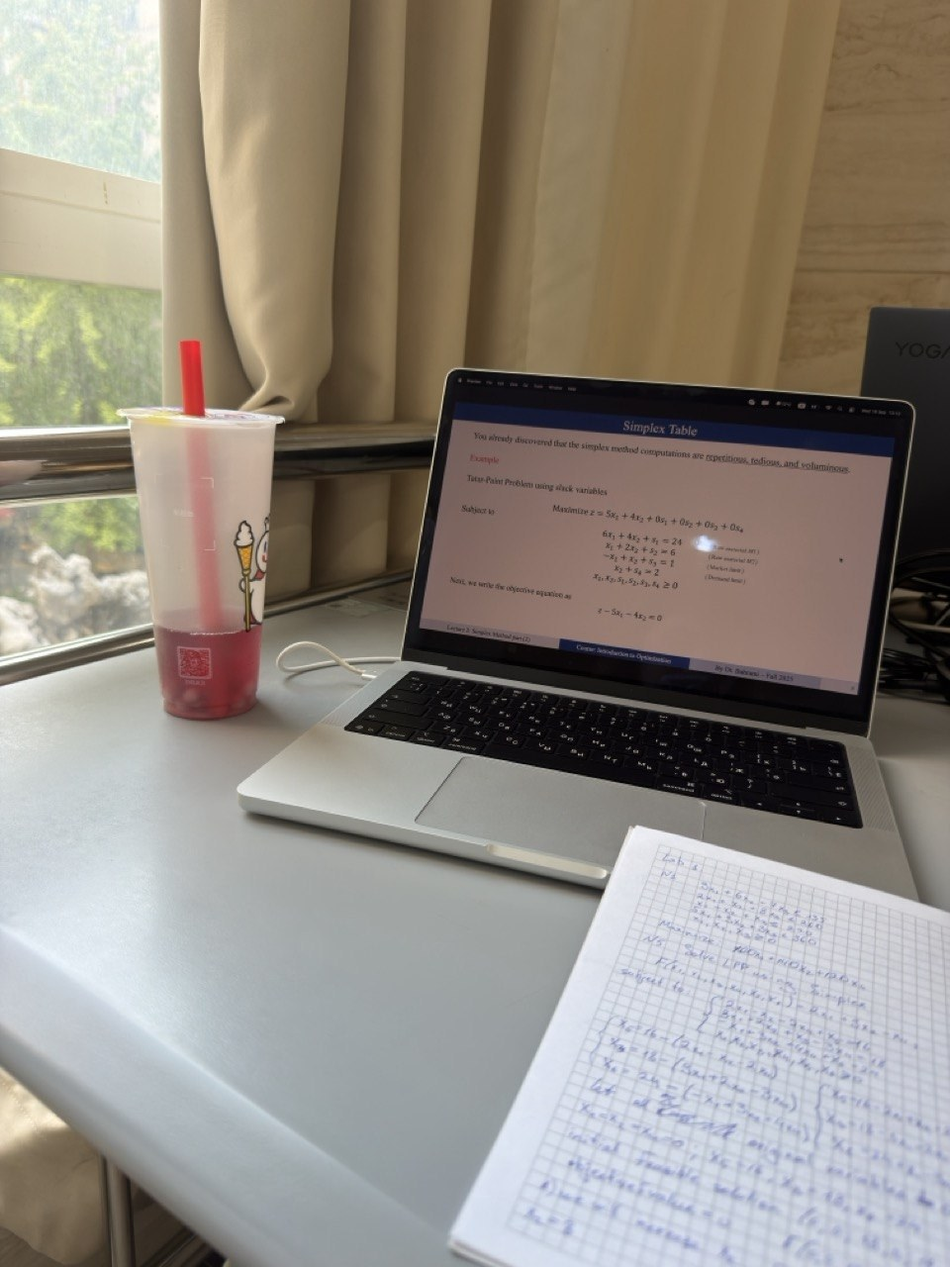laptop: (235, 366, 923, 903)
